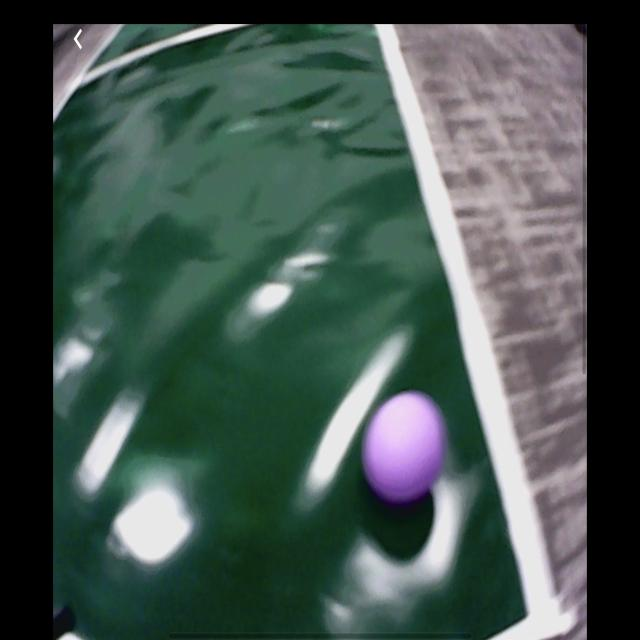ball: (361, 390, 448, 506)
